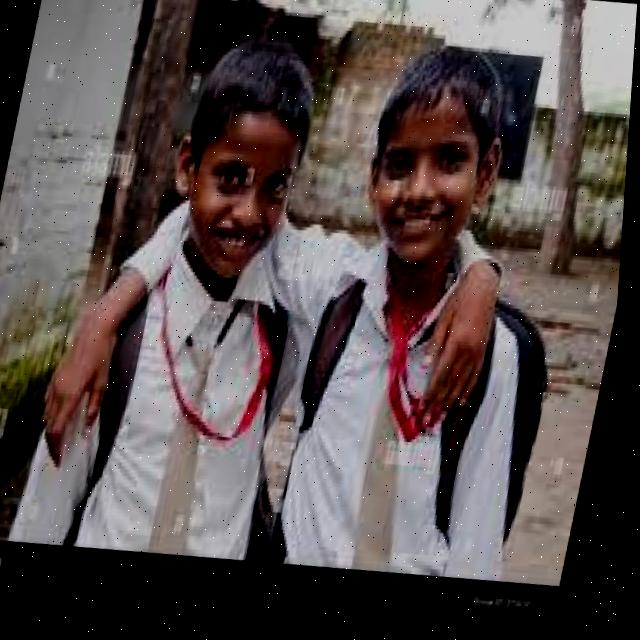id_card: (126, 251, 303, 477), (362, 296, 473, 449)
